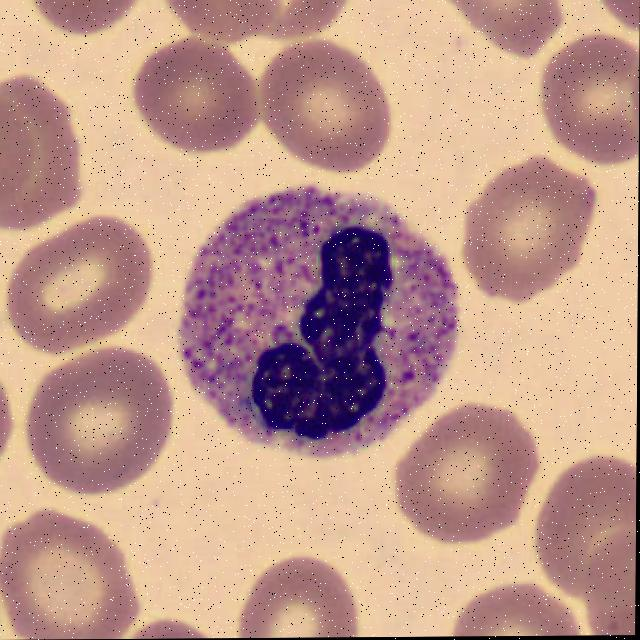neutrophil: (175, 184, 461, 456)
rbc: (17, 342, 180, 496), (439, 161, 605, 312), (0, 216, 165, 356), (397, 400, 538, 555), (258, 29, 409, 168), (0, 505, 152, 640), (133, 28, 255, 158), (527, 21, 640, 158), (539, 439, 637, 588), (0, 59, 84, 227), (416, 561, 580, 637), (224, 560, 370, 638), (562, 517, 636, 636), (429, 0, 559, 65), (160, 0, 277, 42), (32, 0, 140, 38), (253, 0, 363, 36), (138, 597, 229, 639), (593, 0, 640, 33)
